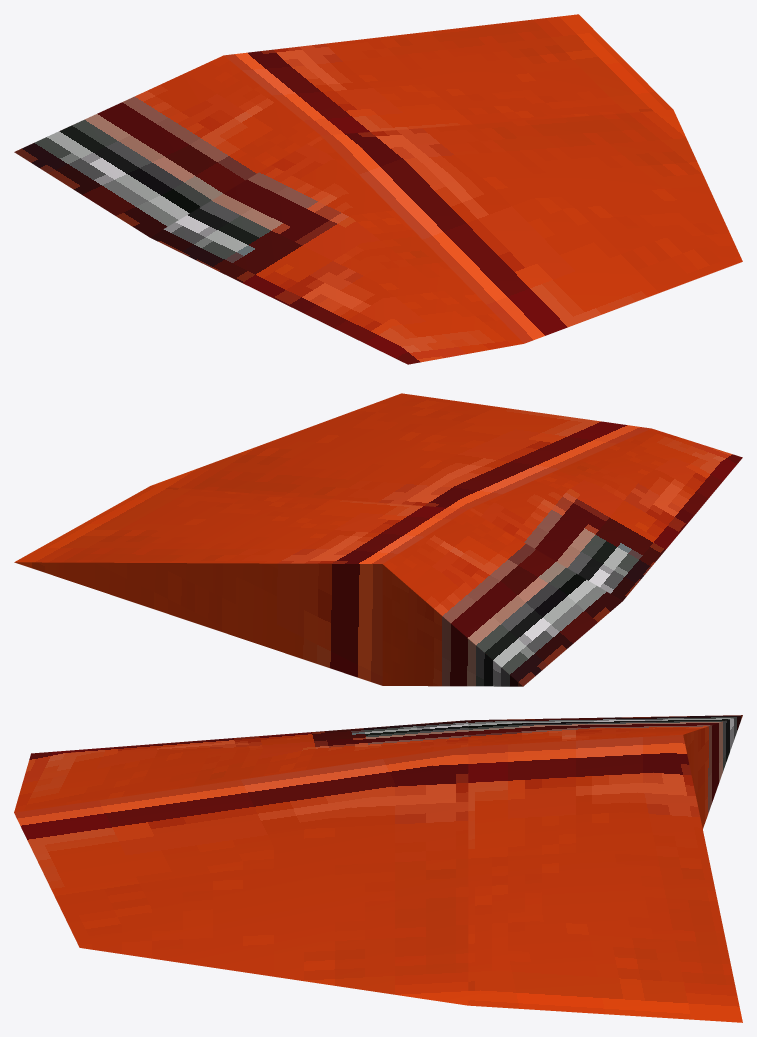
File: WingRight.obj
3 renders of one model, top to bottom at view 1: azimuth 30°, elevation 25°; view 2: azimuth 150°, elevation 25°; view 3: azimuth 270°, elevation 25°, orthographic. The views are drawn at different scales.
Bounding box in the file's own units: 11.26 × 2.57 × 11.27.
1 material, 1 textured.
